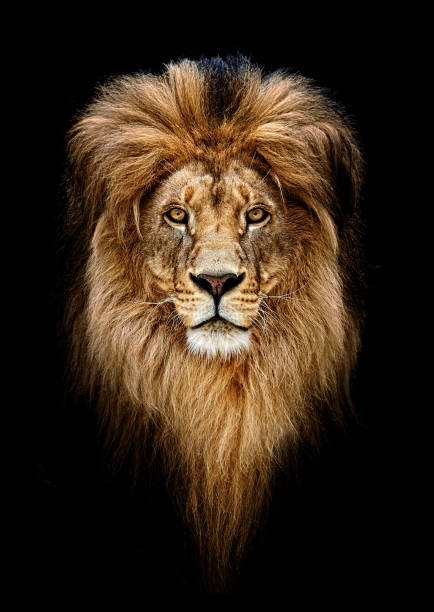lion: (41, 45, 415, 534)
